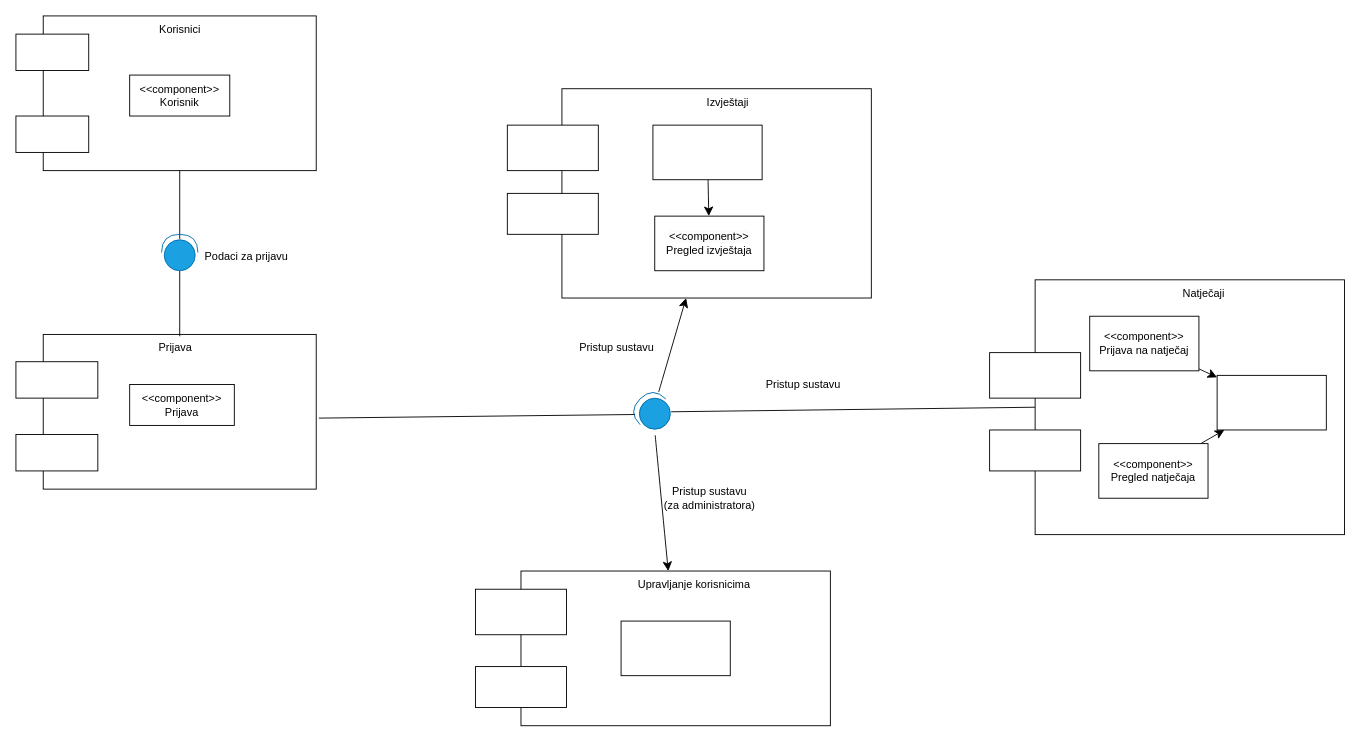
The diagram is 1360 pixels wide and 742 high, and some of its shapes have lost their labels. Each missing label, with the box of its shape:
<<component>> Generiranje izvještaja: (652, 124, 762, 180)
<<component>> Natječaj: (1216, 374, 1326, 430)
<<component>> Upravljanje korisnicima/firmama: (620, 620, 730, 676)
